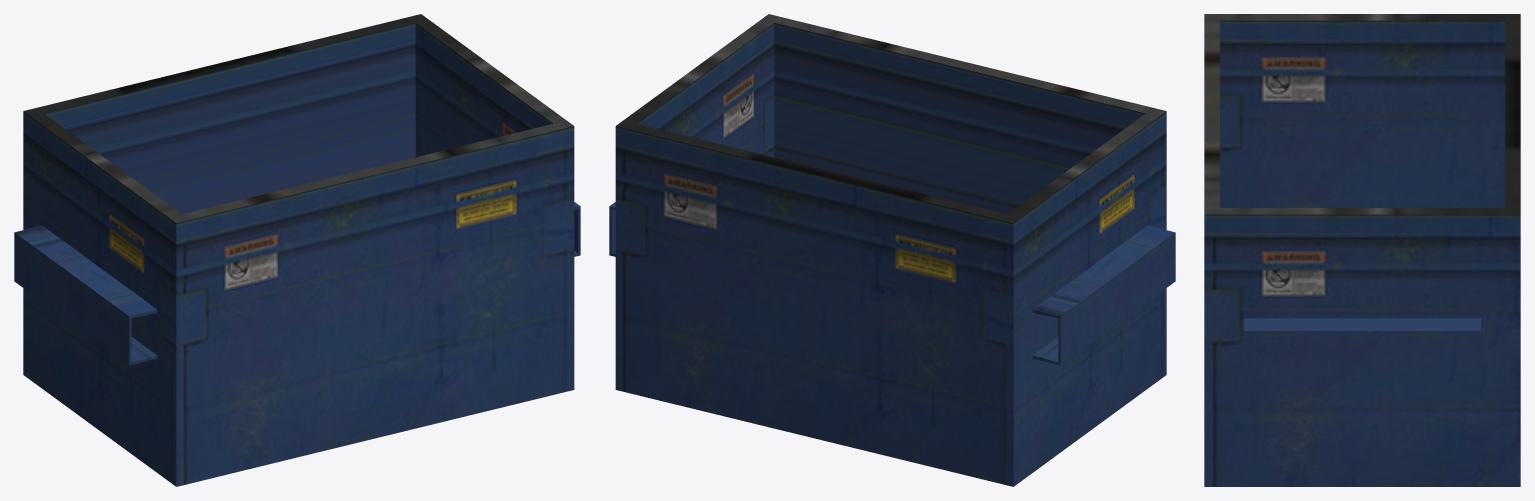
The model's file is dumpster-bottom.fbx.
The picture shows the model from 3 angles, left to right: view 1: azimuth 30°, elevation 25°; view 2: azimuth 150°, elevation 25°; view 3: azimuth 270°, elevation 25°; orthographic projection. The views are drawn at different scales.
Parts seen in each view (by area): view 1: dumpster-bottom, arm.001; view 2: dumpster-bottom, arm.001; view 3: dumpster-bottom, arm.
Part boxes in pixels (left/top/right/bottom): dumpster-bottom: left=23, top=14, right=574, bottom=486; arm.001: left=14, top=225, right=157, bottom=365; dumpster-bottom: left=615, top=14, right=1166, bottom=486; arm.001: left=1032, top=225, right=1175, bottom=365; dumpster-bottom: left=1204, top=14, right=1520, bottom=486; arm: left=1244, top=318, right=1480, bottom=381.
Bounding box in the file's own units: 170 × 95 × 100.
Materials: 2 (2 with a texture image).
